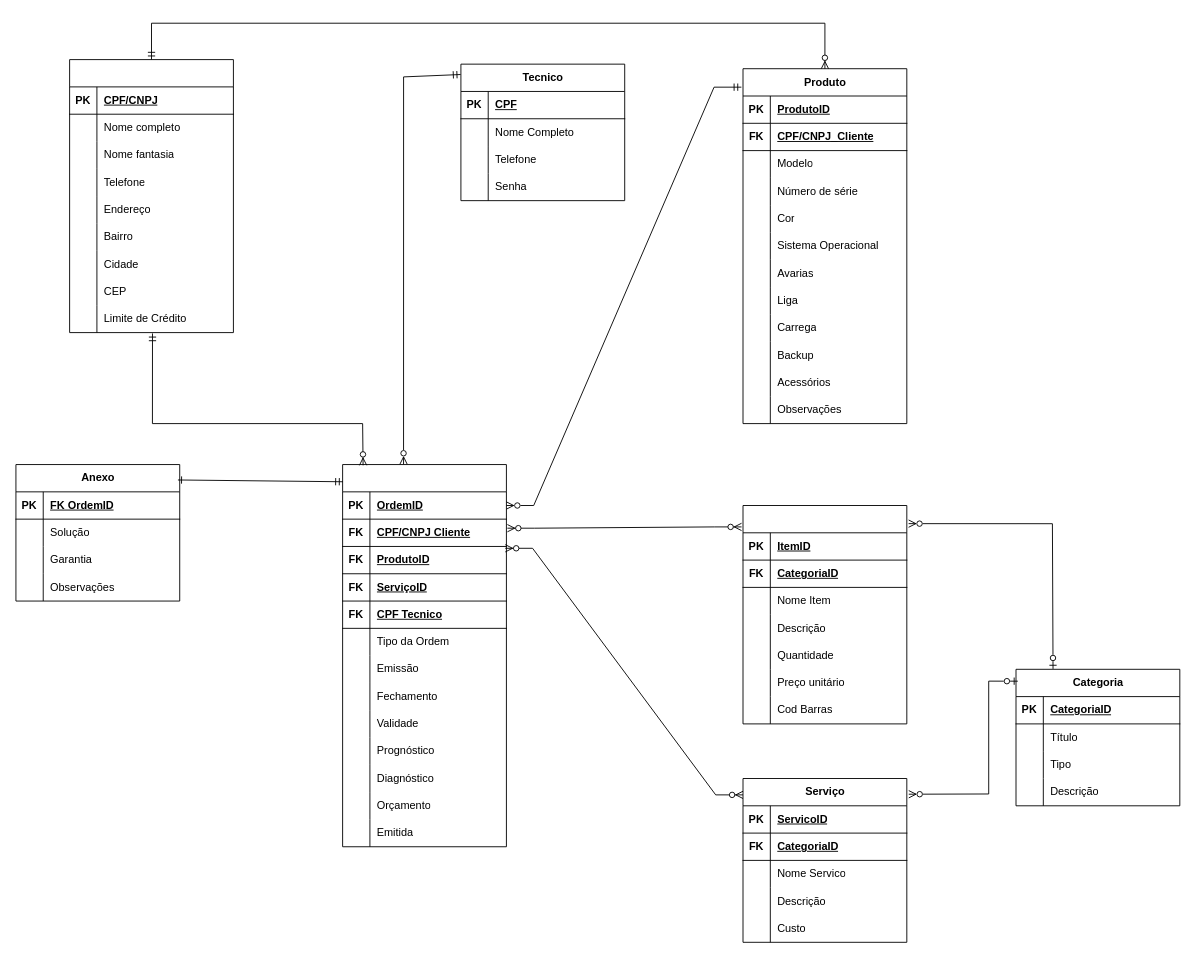
Some shapes in this 1196 by 958 pixel diagram are drawn without their labels. Here are the shapes that lost their labels. From the top down, the box of each, then its label:
(69, 59, 233, 333): Cliente
(742, 505, 907, 724): Estoque
(342, 464, 506, 847): Ordem de Serviço
